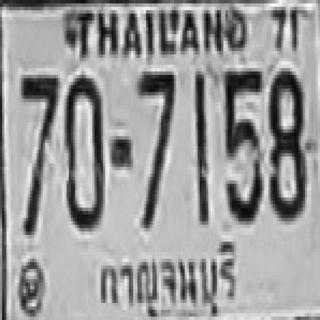N00: (62, 73, 103, 226)
N01: (193, 70, 206, 223)
N05: (223, 66, 260, 220)
N07: (19, 72, 58, 232), (135, 70, 174, 226), (19, 72, 58, 211), (19, 72, 58, 177)
N08: (268, 66, 305, 216)
P17: (91, 235, 242, 320)
